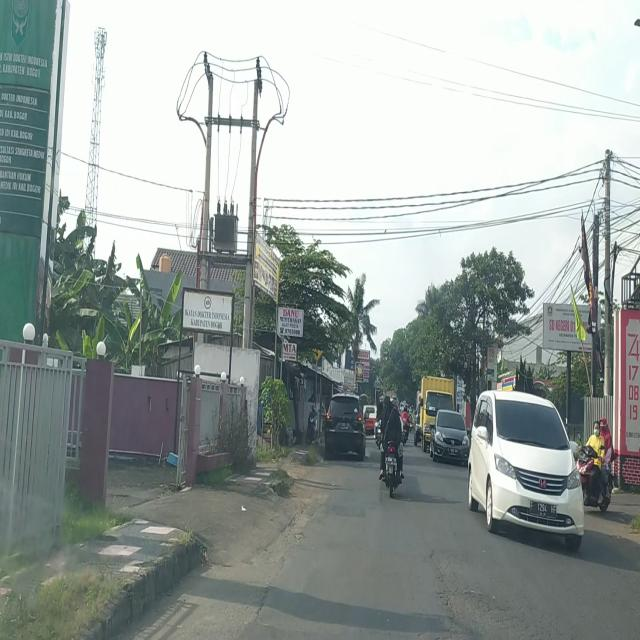Drain Hole: (420, 550, 568, 640)
